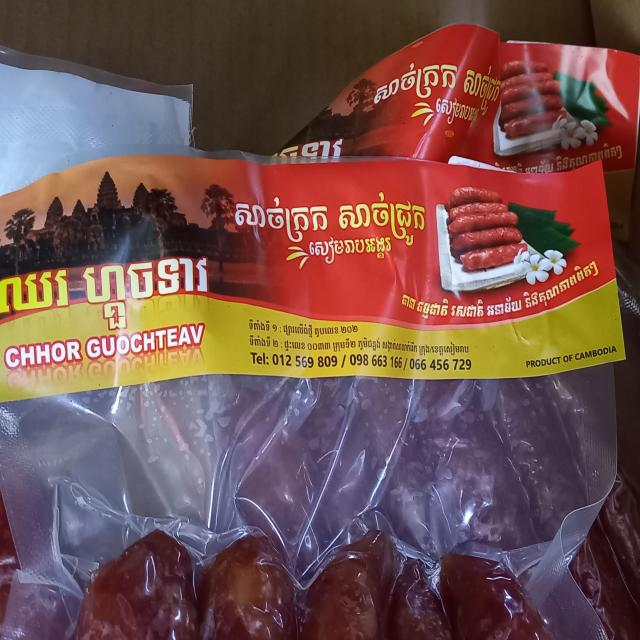Yolov11kh: (1, 252, 210, 335), (398, 255, 602, 323), (337, 191, 428, 248), (370, 52, 460, 109), (244, 334, 471, 356), (233, 195, 329, 244), (307, 234, 395, 265), (271, 352, 339, 369), (410, 358, 475, 372), (348, 353, 402, 369), (314, 321, 359, 338), (247, 316, 279, 333), (283, 323, 313, 338)
